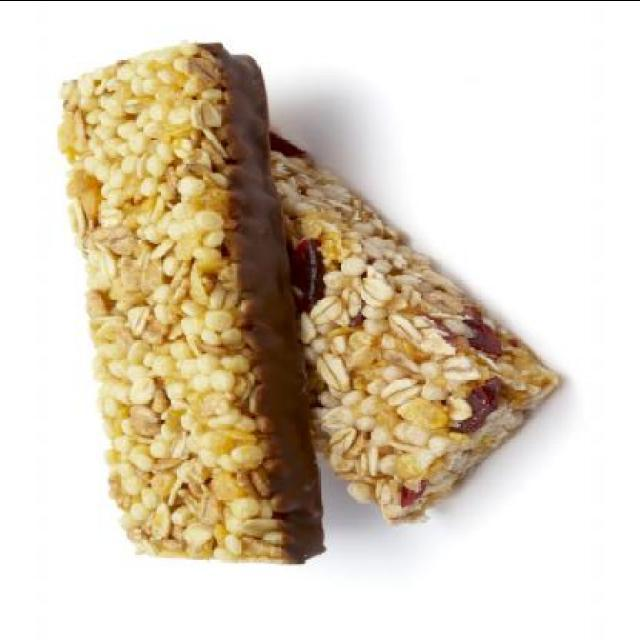Cereal bar packaged: (57, 40, 321, 562)
